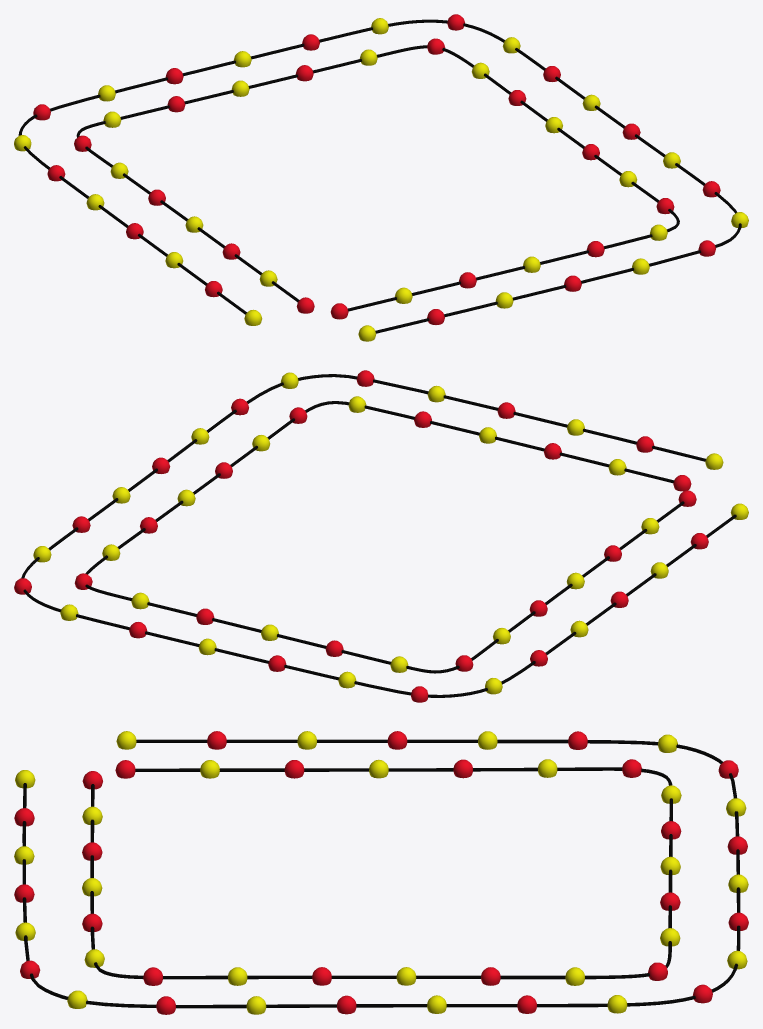
Rendered from threadmill.glb.
3 views of the same model, one above another, from view 1: azimuth 30°, elevation 25°; view 2: azimuth 150°, elevation 25°; view 3: azimuth 270°, elevation 25° (orthographic). The views are drawn at different scales.
Visible parts, largest first — view 1: Sphere.001, Sphere, NurbsPath, NurbsPath.001; view 2: Sphere.001, Sphere, NurbsPath, NurbsPath.001; view 3: Sphere.001, Sphere, NurbsPath, NurbsPath.001.
Boxes of the visible parts, x1,y1,x2,y2 form: Sphere.001: [14, 14, 748, 341]; Sphere: [74, 38, 674, 319]; NurbsPath: [18, 19, 741, 333]; NurbsPath.001: [76, 45, 679, 311]; Sphere.001: [14, 370, 748, 702]; Sphere: [74, 396, 696, 672]; NurbsPath: [21, 374, 736, 697]; NurbsPath.001: [85, 401, 684, 673]; Sphere.001: [14, 731, 748, 1014]; Sphere: [82, 759, 681, 985]; NurbsPath: [22, 739, 740, 1008]; NurbsPath.001: [90, 767, 672, 979].
Size of the model in its own units: 3.69 by 0.0878 by 4.18.
